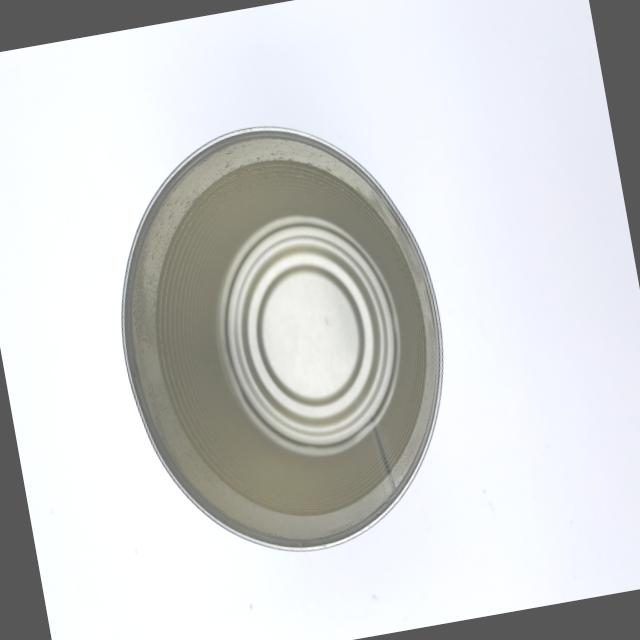Metal: (79, 98, 486, 586)
